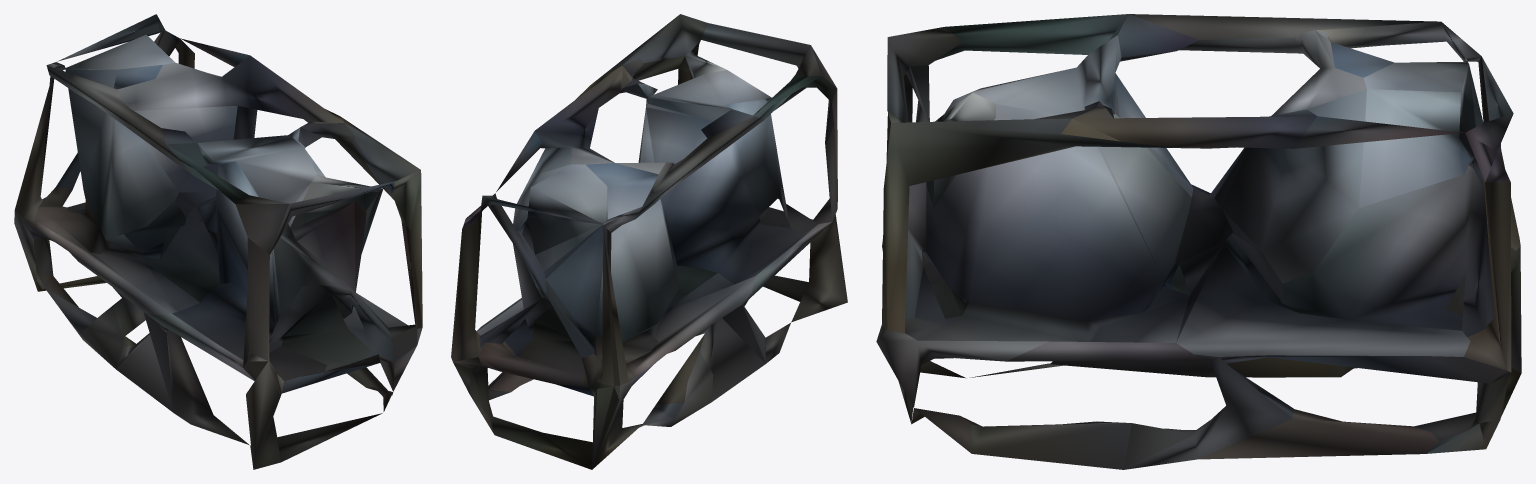
The model's file is cargo_piece_11.glb.
The picture shows the model from 3 angles, left to right: view 1: azimuth 30°, elevation 25°; view 2: azimuth 150°, elevation 25°; view 3: azimuth 270°, elevation 25°; orthographic projection. The views are drawn at different scales.
Visible parts, largest first — view 1: cargo_11; view 2: cargo_11; view 3: cargo_11.
Part boxes in pixels (x1,y1,x2,y2): cargo_11: [14, 14, 422, 469]; cargo_11: [451, 14, 847, 469]; cargo_11: [876, 14, 1521, 469].
Bounding box in the file's own units: 0.044 × 0.0625 × 0.1034.
Materials: 1 (1 with a texture image).
